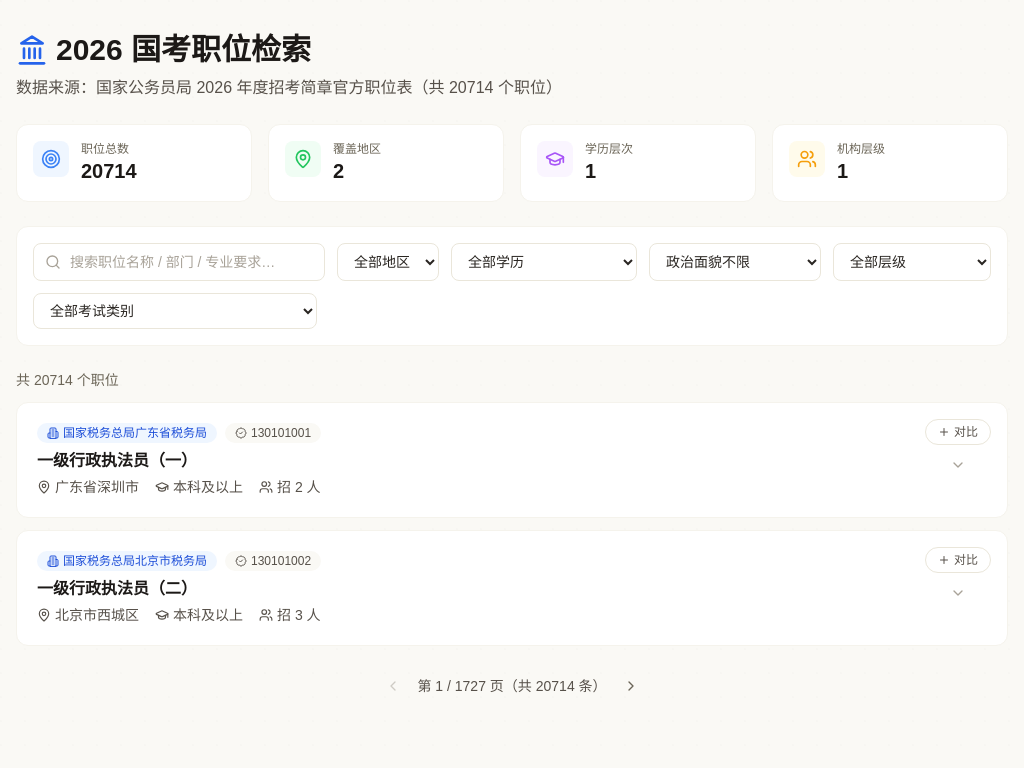
Scenario: 国考职位检索页 › 再点一次取消勾选，对比栏消失
Click the 1st button "对比": click(958, 432) [925,419,991,445]
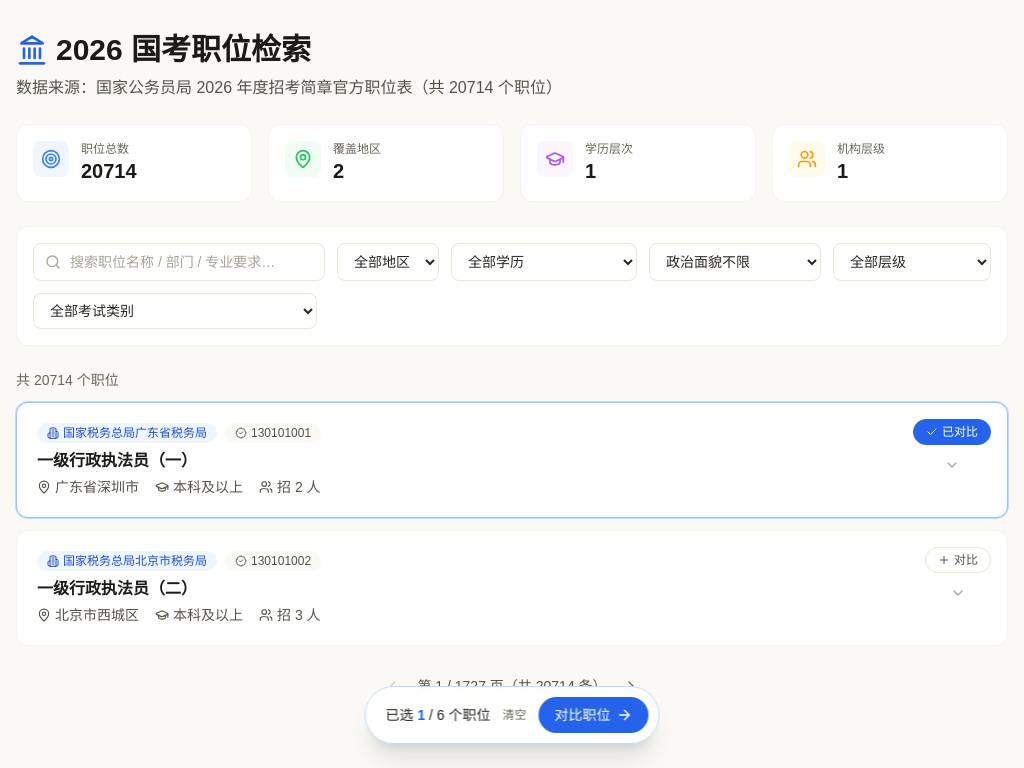
Expected: the text "已选 1 / 6 个职位" is shown, [386,705,490,725]
Click the button "已对比": click(952, 432) [913,419,991,445]
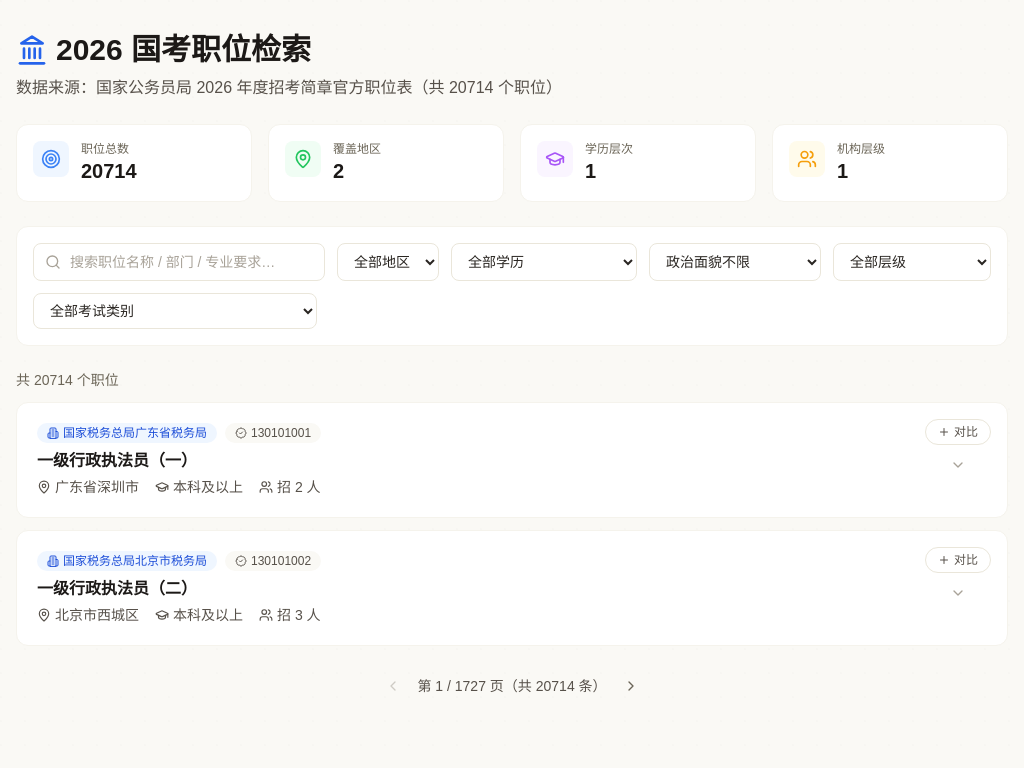
Expected: the text "已选" is gone
